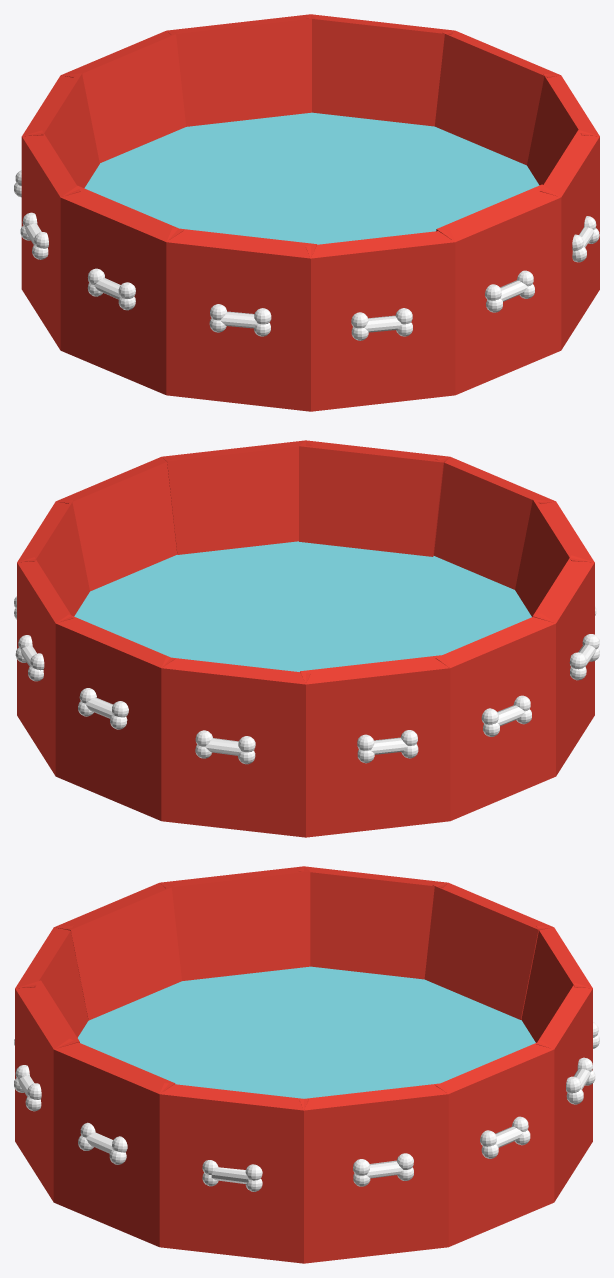
Rendered from bowl.glb.
The picture shows the model from 3 angles, top to bottom: view 1: azimuth 30°, elevation 25°; view 2: azimuth 150°, elevation 25°; view 3: azimuth 270°, elevation 25°; orthographic projection.
Visible parts, largest first — view 1: Node; view 2: Node; view 3: Node.
Part boxes in pixels (x1=…): Node: x1=14, y1=14, x2=599, y2=411; Node: x1=14, y1=440, x2=599, y2=837; Node: x1=14, y1=866, x2=599, y2=1263.
Bounding box in the file's own units: 0.6515 × 0.1963 × 0.6591.
